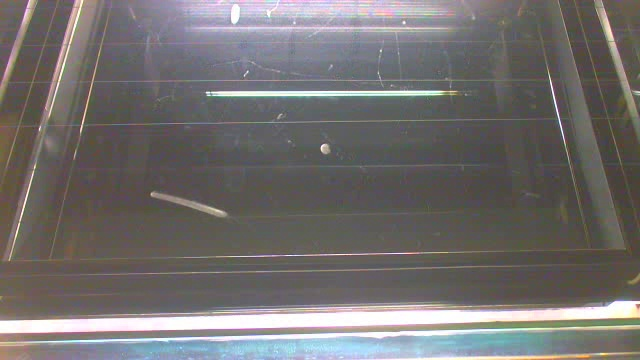Alfa: (147, 187, 230, 221), (226, 1, 244, 30), (317, 138, 333, 157)
